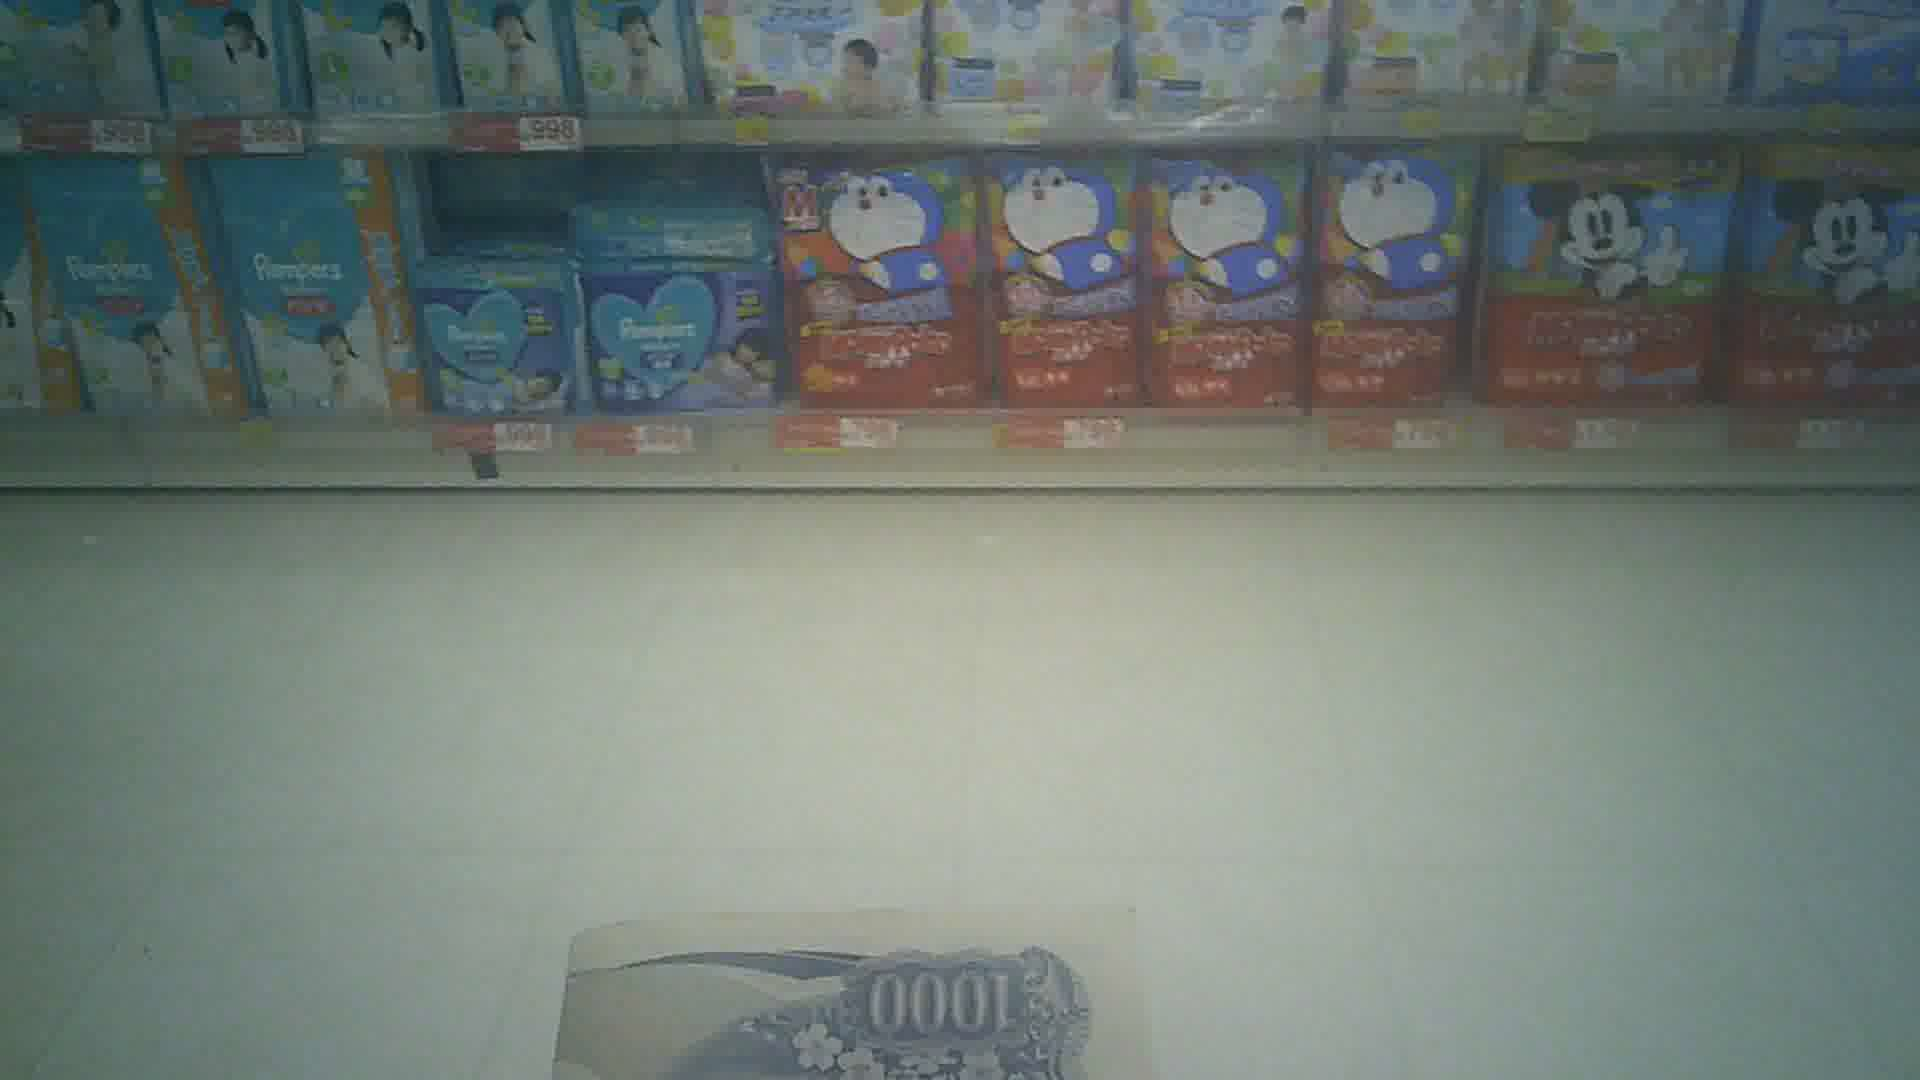1,000 Yen: (563, 899, 1178, 1077)
